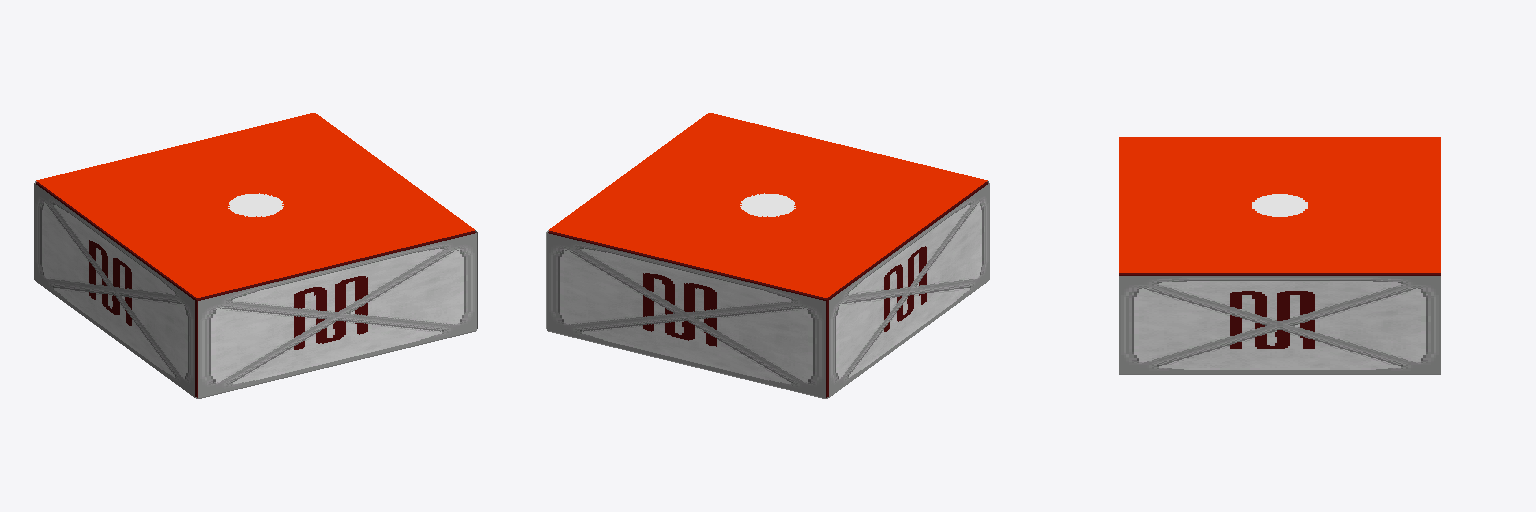
3 views of the same model, side by side, from view 1: azimuth 30°, elevation 25°; view 2: azimuth 150°, elevation 25°; view 3: azimuth 270°, elevation 25° (orthographic).
Parts seen in each view (by area): view 1: Radiator3, Radiator11, Radiator8, Radiator1, Radiator2; view 2: Radiator3, Radiator10, Radiator8, Radiator1, Radiator2; view 3: Radiator3, Radiator7, Radiator1, Radiator2.
Boxes of the visible parts, <box> form: Radiator3: <box>36,113,474,297</box>; Radiator11: <box>198,233,476,397</box>; Radiator8: <box>34,183,194,397</box>; Radiator1: <box>36,182,475,397</box>; Radiator2: <box>228,193,283,216</box>; Radiator3: <box>549,113,987,297</box>; Radiator10: <box>547,233,825,397</box>; Radiator8: <box>829,183,989,397</box>; Radiator1: <box>548,182,987,397</box>; Radiator2: <box>740,193,795,216</box>; Radiator3: <box>1119,137,1440,272</box>; Radiator7: <box>1119,276,1440,373</box>; Radiator1: <box>1119,273,1440,348</box>; Radiator2: <box>1252,194,1307,216</box>.
Size of the model in its own units: 3.04 by 1.04 by 3.04.
9 materials, 2 textured.